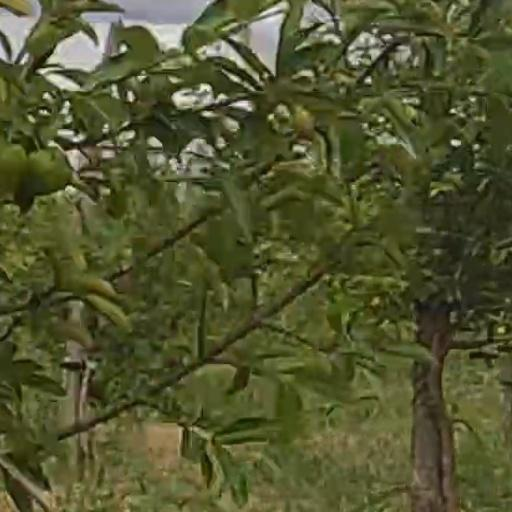acerola_verde: (27, 147, 70, 191), (2, 144, 24, 197)
